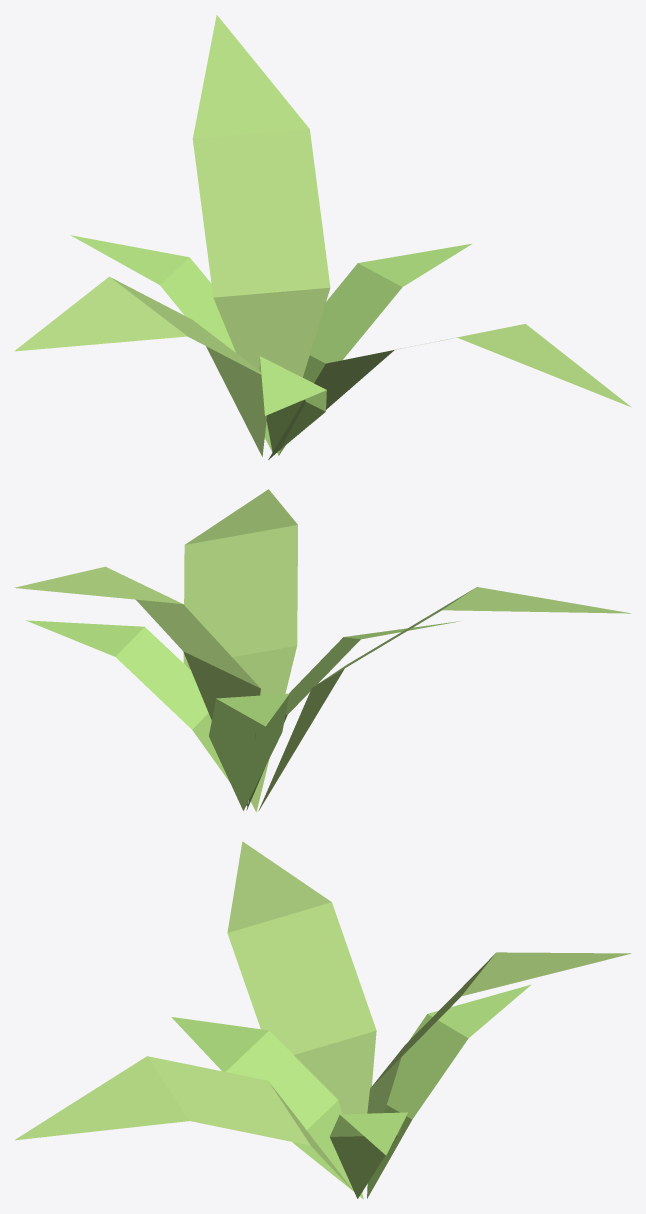
The model's file is Plant_b_TwoS_06.fbx.
3 views of the same model, one above another, from view 1: azimuth 30°, elevation 25°; view 2: azimuth 150°, elevation 25°; view 3: azimuth 270°, elevation 25° (orthographic). The views are drawn at different scales.
Parts seen in each view (by area): view 1: Plant_b_TwoS_06; view 2: Plant_b_TwoS_06; view 3: Plant_b_TwoS_06.
Part boxes in pixels (x1,y1,x2,y2): Plant_b_TwoS_06: (14,15,631,459); Plant_b_TwoS_06: (14,489,630,812); Plant_b_TwoS_06: (14,841,631,1199).
Size of the model in its own units: 0.727 by 0.4056 by 0.7899.
